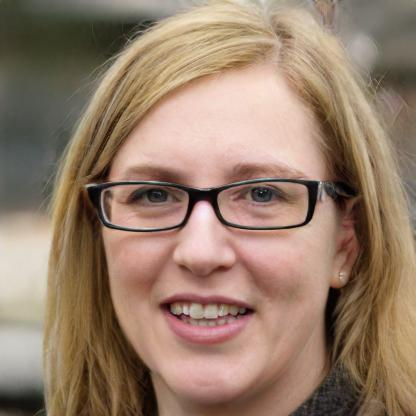glasses: (85, 175, 334, 235)
